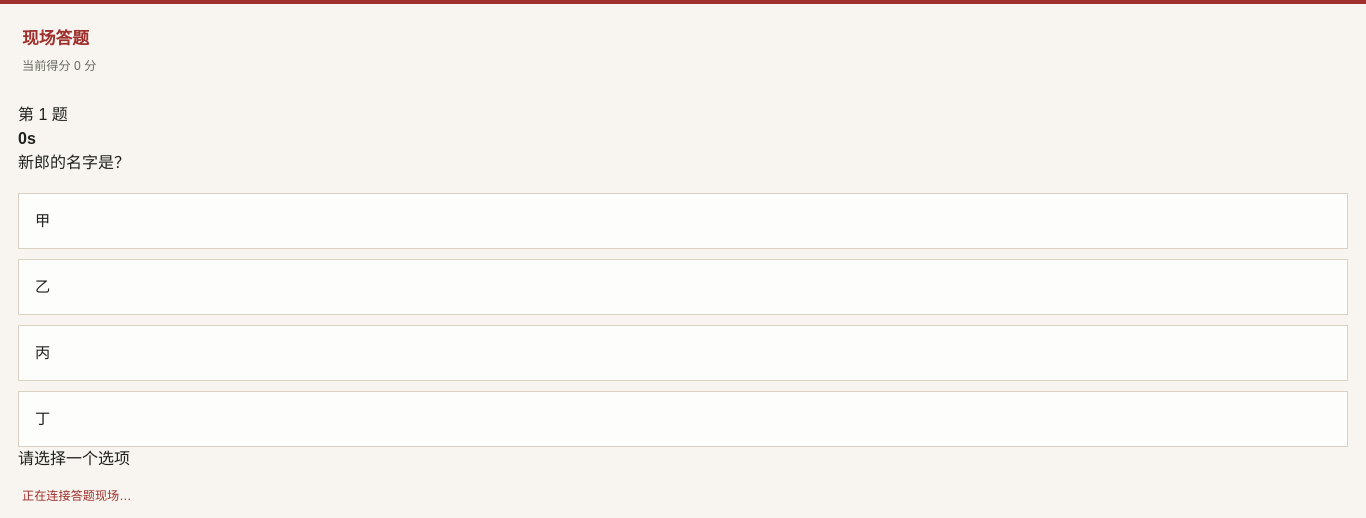
Test: quiz participant answer submission › saves immediately when an option is selected and locks it after confirmation
Step 1. Click the button "丙" → (43, 353), box 18,325 -> 1348,381
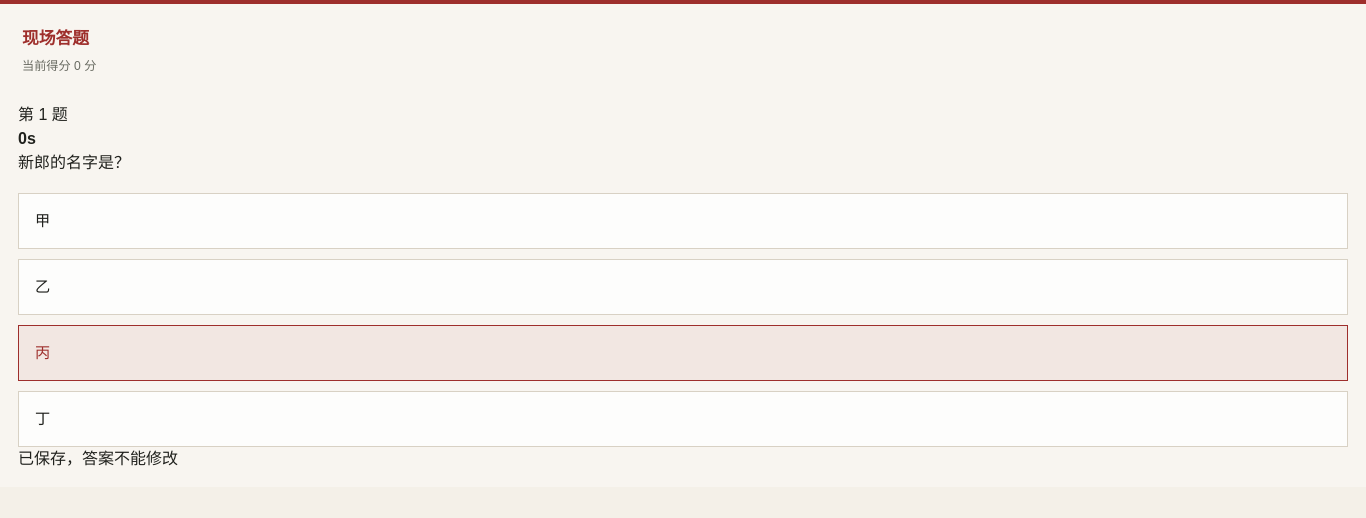
Now the message shows "已保存", box 18,450 -> 178,467
Now the button "丙" is disabled, box 18,325 -> 1348,381
